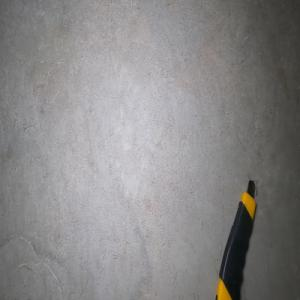Cutter: (214, 178, 256, 300)
